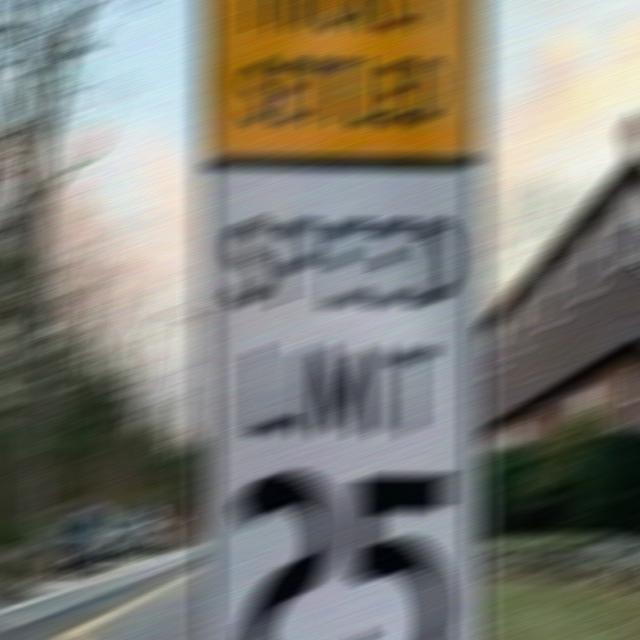speedLimit25: (198, 164, 482, 636)
